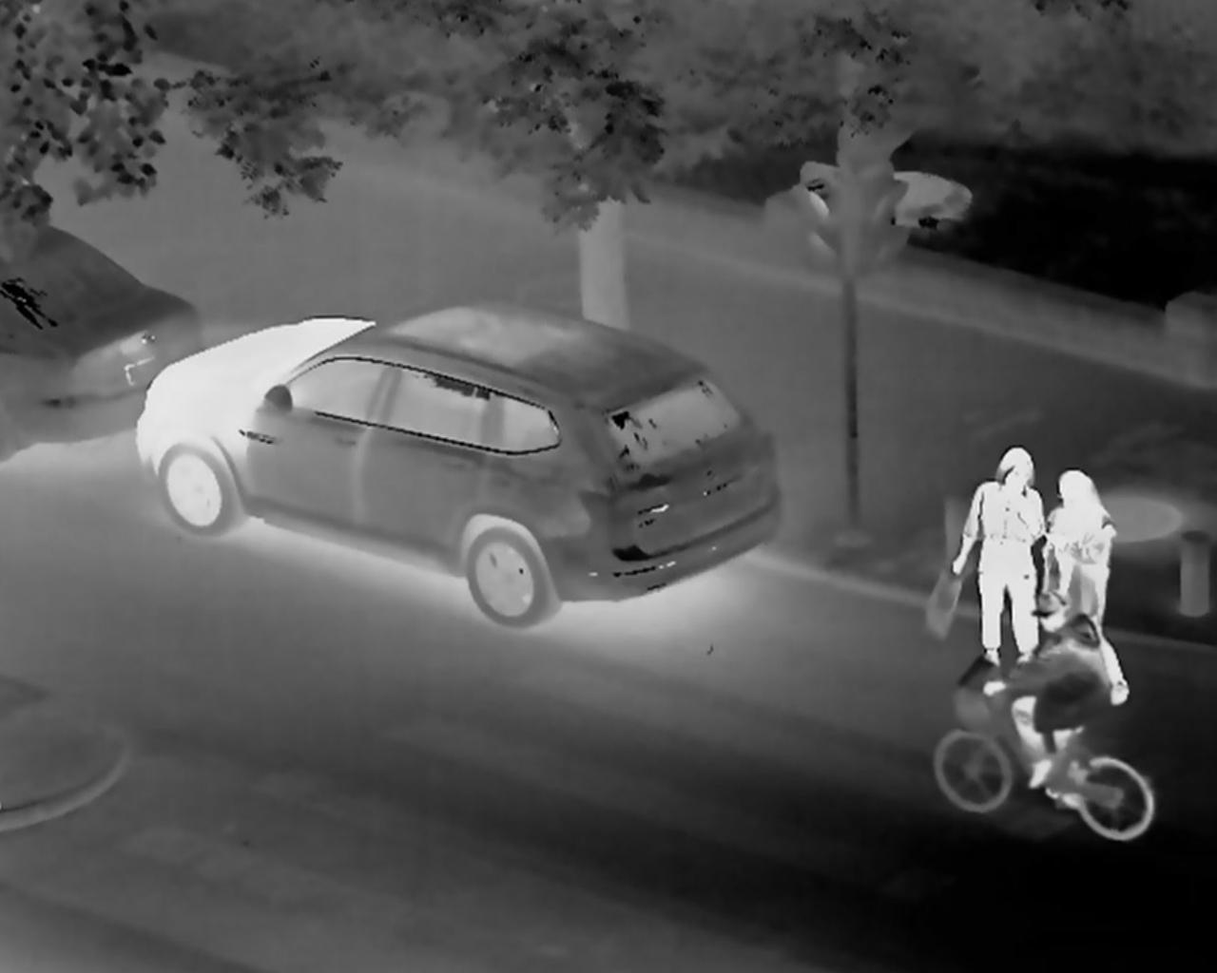person: (1040, 468, 1137, 698), (956, 448, 1046, 672), (1021, 591, 1102, 816)
